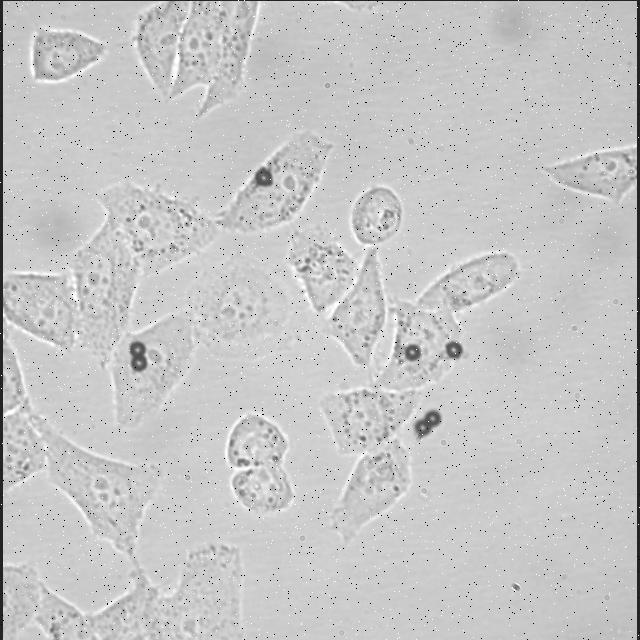microbeads: (410, 416, 434, 438), (443, 340, 462, 360), (255, 164, 272, 186), (402, 341, 422, 359), (130, 355, 150, 371), (424, 408, 444, 424), (131, 340, 145, 354)
